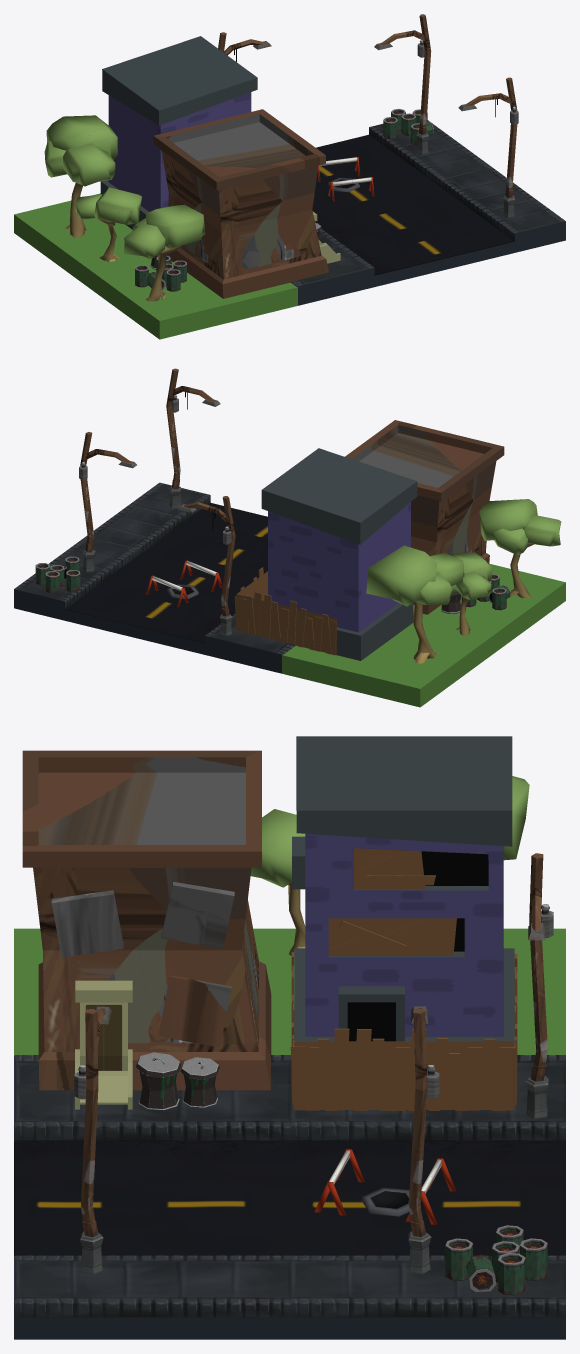
File: FirstResponderScene.fbx
3 views of the same model, one above another, from view 1: azimuth 30°, elevation 25°; view 2: azimuth 150°, elevation 25°; view 3: azimuth 270°, elevation 25° (orthographic). The views are drawn at different scales.
Visible parts, largest first — view 1: RUA, Predio, Cube.003, Cube, Arvore, Arvore.001, Arvore.002, Lightpost.002, Lightpost.004, Latão.001, Latão, Construcao (+1 smaller); view 2: Cube, RUA, Cube.003, Predio, Arvore, Arvore.001, Arvore.002, Lightpost.004, Lightpost, Lightpost.002, Latão, Construcao (+2 smaller); view 3: RUA, Cube, Predio, Cube.003, Porta, Latão, Lightpost.004, Lightpost.002, Lightpost, Arvore.002, Construcao, RUA.001 (+3 smaller).
Boxes of the visible parts, bbox=[...] form: RUA: bbox=[312, 120, 564, 278]; Predio: bbox=[153, 109, 328, 298]; Cube.003: bbox=[14, 193, 565, 339]; Cube: bbox=[100, 36, 257, 229]; Arvore: bbox=[44, 115, 117, 237]; Arvore.001: bbox=[124, 204, 205, 301]; Arvore.002: bbox=[75, 187, 141, 261]; Lightpost.002: bbox=[374, 14, 431, 154]; Lightpost.004: bbox=[458, 77, 517, 217]; Latão.001: bbox=[135, 255, 186, 291]; Latão: bbox=[383, 108, 433, 145]; Construcao: bbox=[317, 156, 374, 202]; Cube: bbox=[234, 448, 417, 660]; RUA: bbox=[14, 483, 267, 646]; Cube.003: bbox=[14, 482, 565, 707]; Predio: bbox=[345, 420, 504, 614]; Arvore: bbox=[366, 545, 464, 663]; Arvore.001: bbox=[479, 499, 561, 598]; Arvore.002: bbox=[451, 552, 491, 635]; Lightpost.004: bbox=[166, 368, 220, 508]; Lightpost: bbox=[178, 496, 235, 636]; Lightpost.002: bbox=[80, 432, 136, 571]; Latão: bbox=[35, 556, 80, 593]; Construcao: bbox=[146, 560, 222, 607]; RUA: bbox=[15, 1084, 565, 1317]; Cube: bbox=[290, 736, 517, 1110]; Predio: bbox=[22, 750, 271, 1090]; Cube.003: bbox=[14, 928, 565, 1339]; Porta: bbox=[75, 980, 132, 1109]; Latão: bbox=[445, 1225, 547, 1295]; Lightpost.004: bbox=[80, 1006, 111, 1274]; Lightpost.002: bbox=[408, 1006, 431, 1274]; Lightpost: bbox=[525, 853, 548, 1118]; Arvore.002: bbox=[250, 809, 305, 959]; Construcao: bbox=[314, 1148, 456, 1224]; RUA.001: bbox=[15, 1055, 565, 1084].
Bounding box in the file's own units: 838 × 314 × 501.
